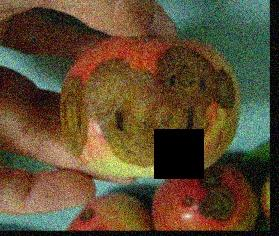rotten apple: (55, 32, 245, 179), (151, 164, 256, 229), (66, 189, 149, 229)
